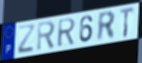6: (79, 15, 94, 44)
R: (36, 20, 57, 53), (97, 10, 117, 43), (57, 17, 77, 49)
T: (119, 6, 135, 39)
Z: (16, 24, 36, 55)
